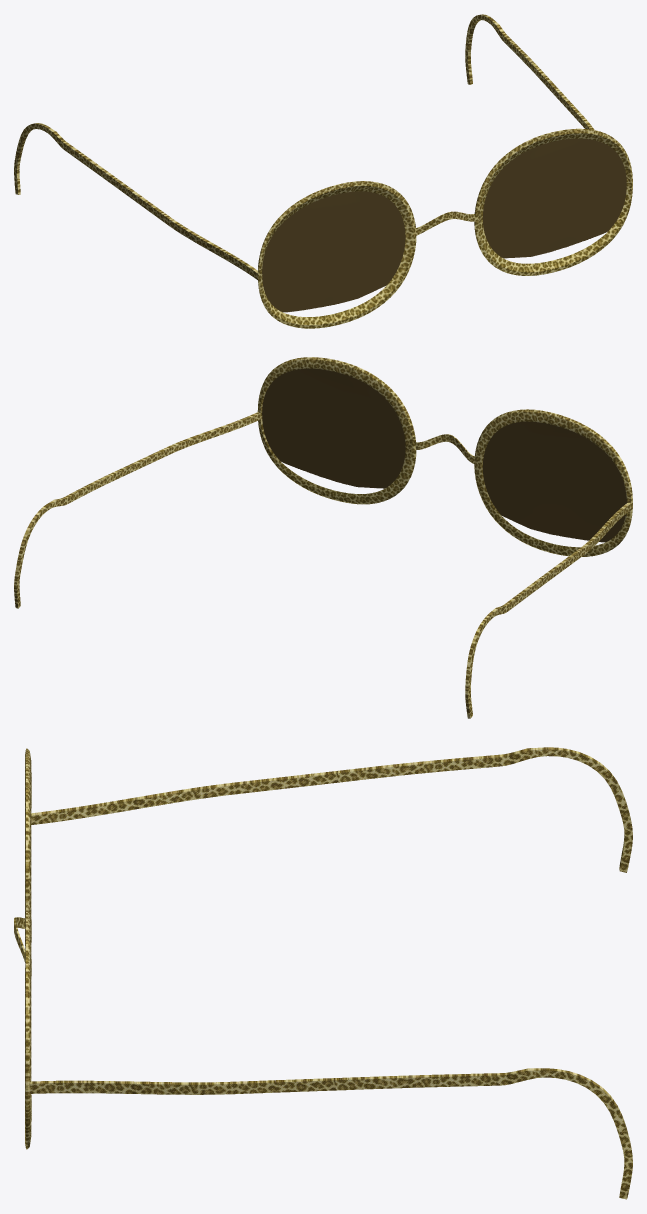
Rendered from BedsideGlasses.fbx.
3 renders of one model, top to bottom at view 1: azimuth 30°, elevation 25°; view 2: azimuth 150°, elevation 25°; view 3: azimuth 270°, elevation 25°, orthographic. The views are drawn at different scales.
Visible parts, largest first — view 1: roundglasses_leopard; view 2: roundglasses_leopard; view 3: roundglasses_leopard.
Part boxes in pixels (box(x1,y1,x2,y2)): roundglasses_leopard: box(14, 14, 632, 328); roundglasses_leopard: box(14, 357, 632, 718); roundglasses_leopard: box(14, 747, 632, 1199).
Bounding box in the file's own units: 14 × 4.12 × 11.12.
Materials: 1 (1 with a texture image).
